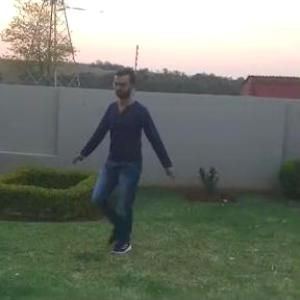land: (70, 62, 192, 266)
